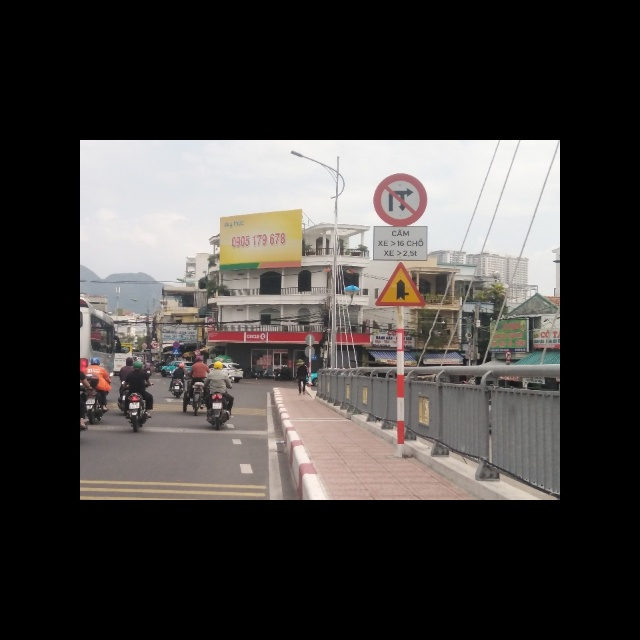Cấm quay đầu và rẽ phải: (371, 173, 427, 227)
Giao nhau với đường không ưu tiên: (374, 263, 426, 307)
